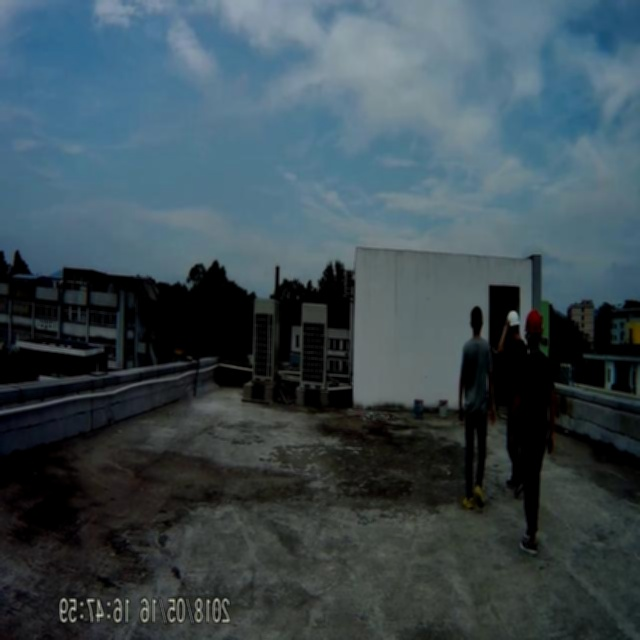Sin_Chaleco: (518, 349, 552, 456), (461, 336, 491, 418)
